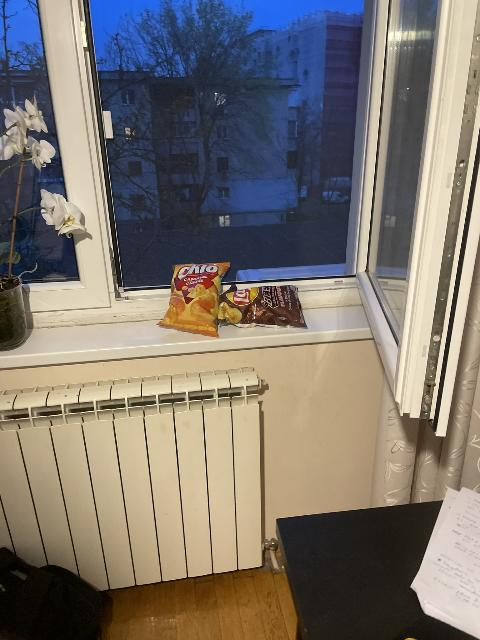Chio Cascaval 125g: (156, 261, 231, 335)
Lays Beef Grilled Ribs 125g: (220, 284, 308, 330)
